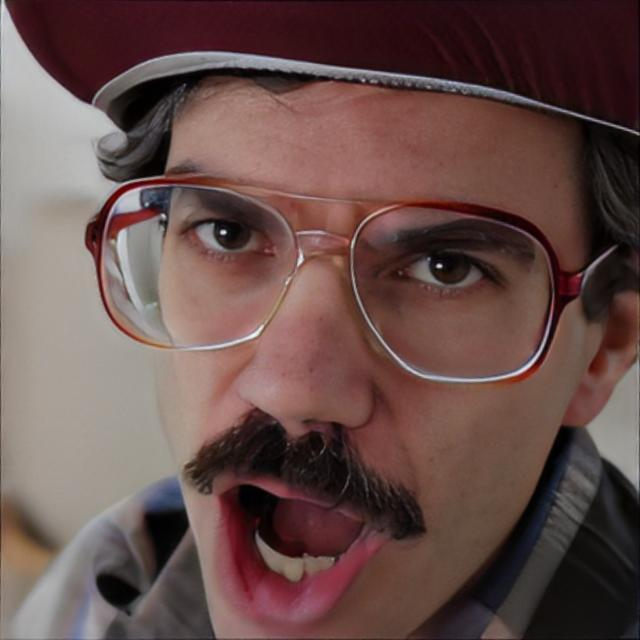anger: (153, 71, 590, 640)
